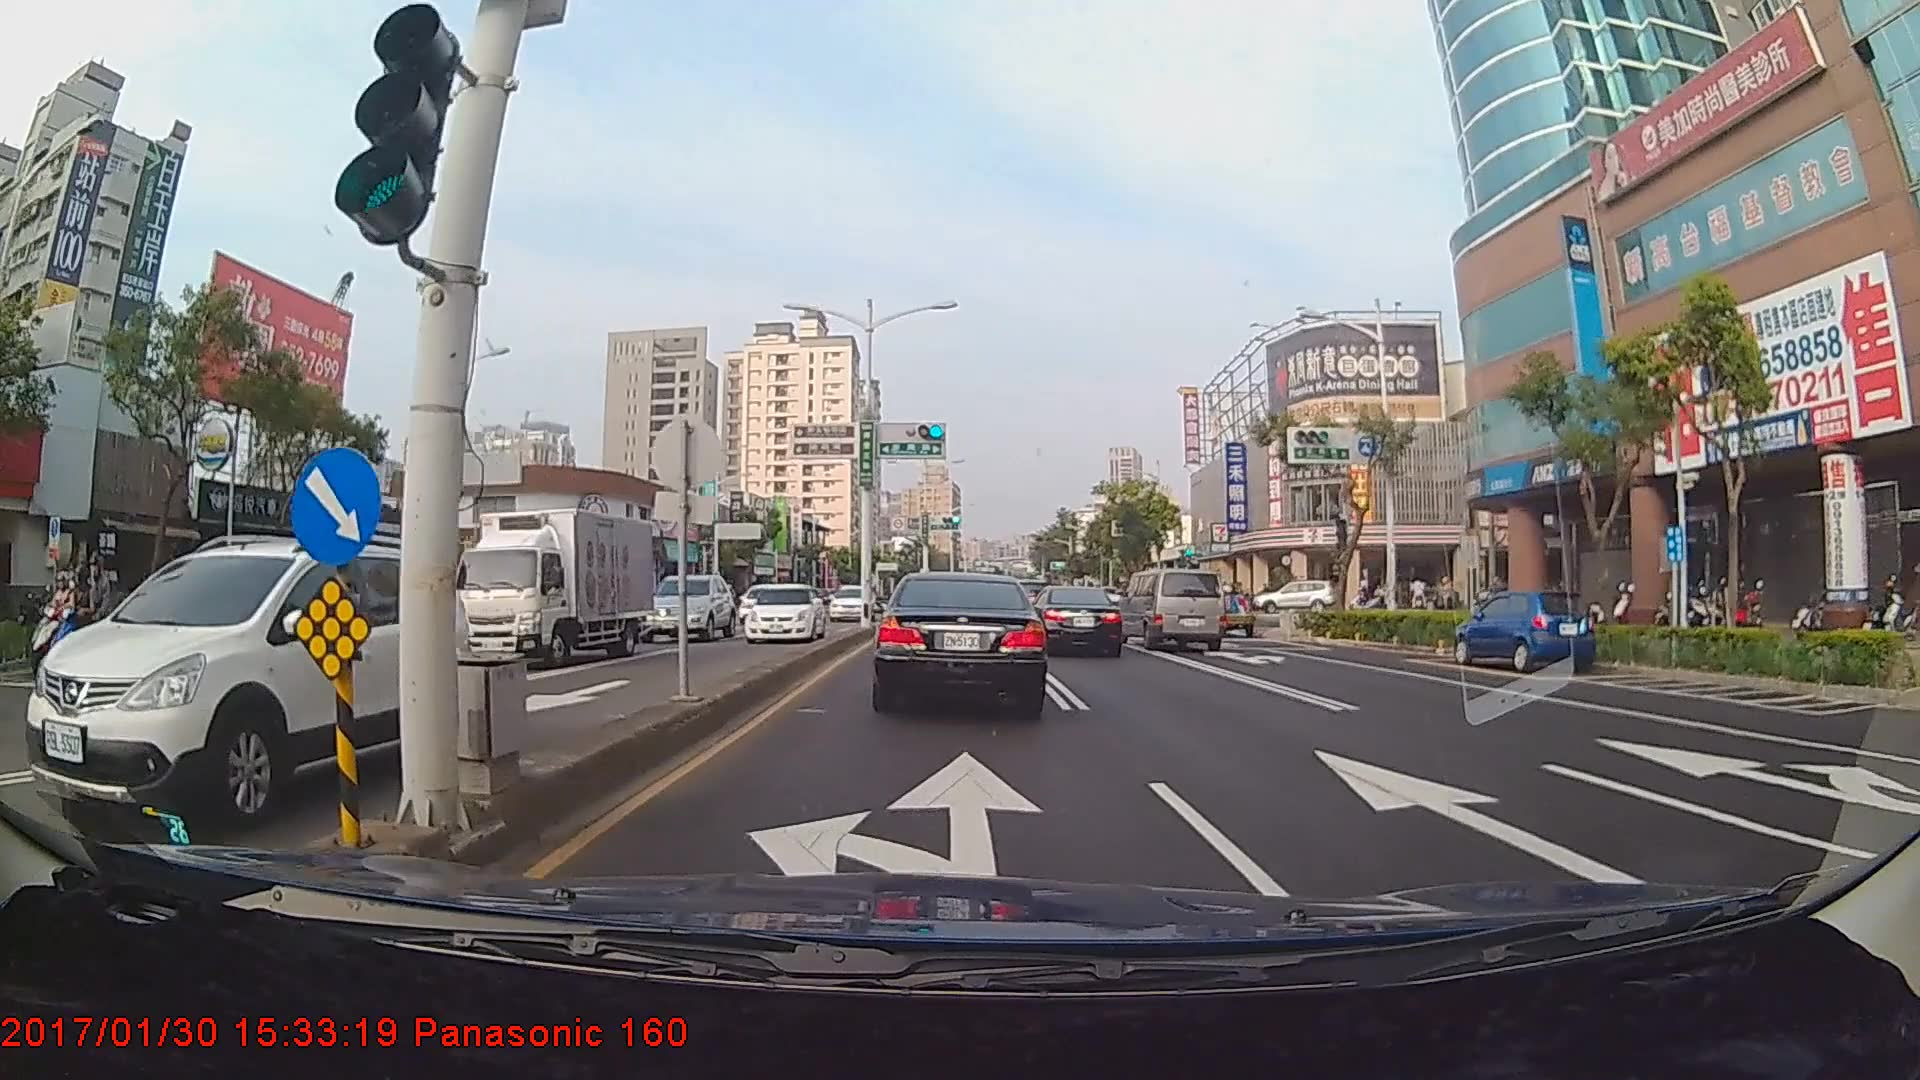vehicle: (49, 526, 479, 836), (454, 502, 654, 666), (876, 567, 1047, 715), (1451, 587, 1596, 673), (1120, 568, 1226, 653), (633, 568, 733, 640), (1036, 584, 1124, 655), (733, 576, 822, 644), (1261, 582, 1335, 615), (825, 579, 868, 621)
